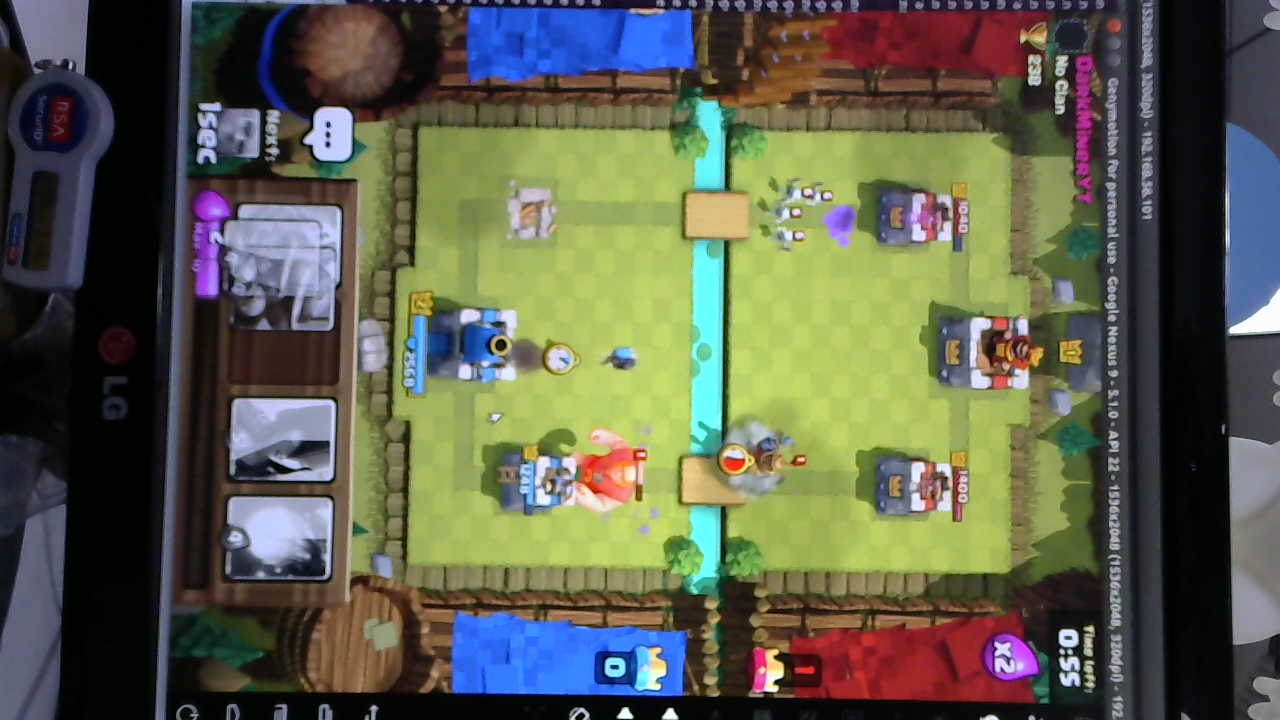arena: (504, 449, 576, 513)
bomb: (604, 341, 639, 377)
darena: (505, 184, 557, 244)
earena: (873, 452, 954, 521), (869, 188, 952, 246)
eking: (937, 312, 1037, 393)
giant: (575, 426, 638, 515)
king: (435, 302, 525, 385)
prince: (742, 432, 800, 479)
